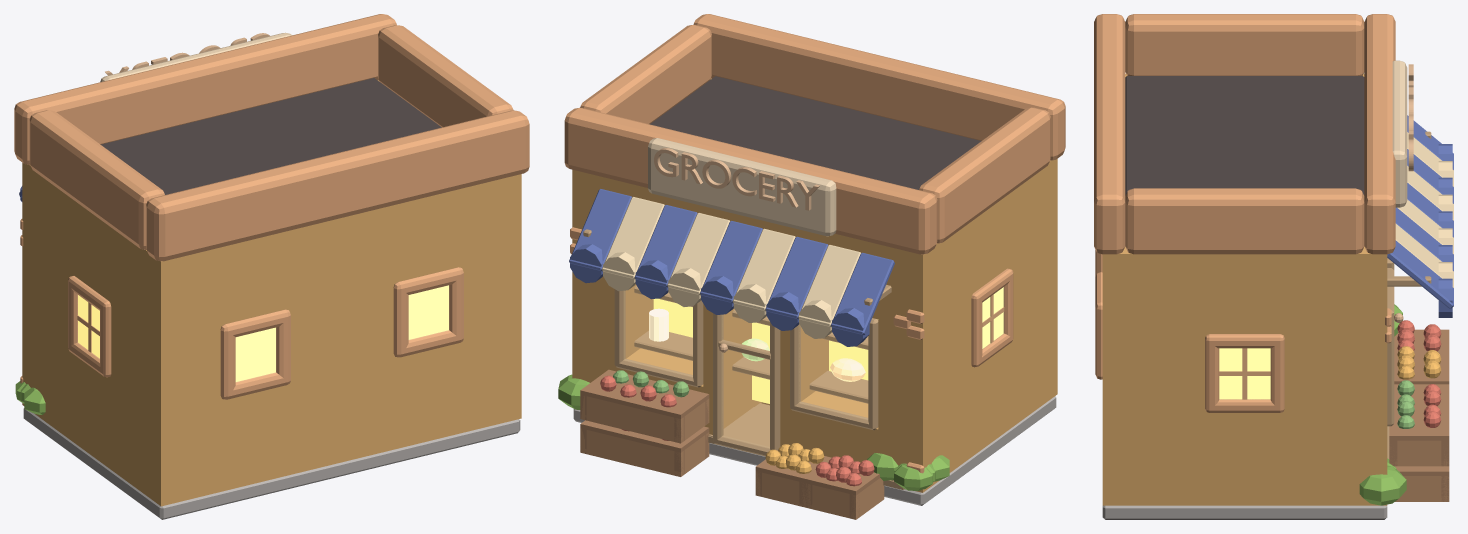
The model's file is 04-grocery-store.glb.
3 renders of one model, left to right at view 1: azimuth 30°, elevation 25°; view 2: azimuth 150°, elevation 25°; view 3: azimuth 270°, elevation 25°, orthographic. The views are drawn at different scales.
Visible parts, largest first — view 1: Walls, ParapetB, ParapetF, Deck, ParapetL, ParapetR, Slab, WinBackR_back, WinBackL_back, WinBackR_l, WinBackL_top, Plaque (+11 smaller); view 2: Walls, ParapetB, Deck, ParapetF, Plaque, ParapetL, ParapetR, Door_glass, WinR_glass, WinL_glass, Slab, IShelf (+50 smaller); view 3: Walls, Deck, ParapetR, ParapetL, ParapetB, ParapetF, Slab, WinSideR_back, Plaque, CrateWL_top_rim, Stripe8, Shrub1.3_0 (+21 smaller).
Boxes of the visible parts, x1,y1,x2,y2 form: Walls: [22, 80, 521, 506]; ParapetB: [146, 110, 529, 261]; ParapetF: [14, 14, 396, 164]; Deck: [101, 78, 441, 194]; ParapetL: [29, 110, 164, 249]; ParapetR: [378, 25, 513, 127]; Slab: [23, 408, 520, 519]; WinBackR_back: [408, 285, 448, 339]; WinBackL_back: [235, 327, 275, 381]; WinBackR_l: [393, 281, 408, 357]; WinBackL_top: [220, 309, 290, 336]; Plaque: [100, 32, 291, 81]; Walls: [572, 78, 1057, 492]; ParapetB: [693, 14, 1065, 160]; Deck: [650, 76, 981, 189]; ParapetF: [564, 107, 937, 254]; Plaque: [648, 138, 836, 236]; ParapetL: [919, 107, 1050, 243]; ParapetR: [580, 25, 711, 124]; Door_glass: [722, 309, 769, 447]; WinR_glass: [624, 285, 692, 376]; WinL_glass: [799, 326, 867, 418]; Slab: [573, 396, 1056, 505]; IShelf: [634, 330, 868, 403]; Walls: [1102, 73, 1387, 505]; Deck: [1125, 76, 1364, 195]; ParapetR: [1125, 188, 1364, 254]; ParapetL: [1125, 14, 1364, 75]; ParapetB: [1094, 14, 1125, 254]; ParapetF: [1364, 14, 1395, 254]; Slab: [1102, 505, 1387, 519]; WinSideR_back: [1219, 348, 1270, 399]; Plaque: [1392, 60, 1407, 207]; CrateWL_top_rim: [1389, 384, 1449, 440]; Stripe8: [1387, 240, 1453, 308]; Shrub1.3_0: [1359, 465, 1406, 505].
Size of the model in its own units: 3.24 by 2.53 by 2.53.
